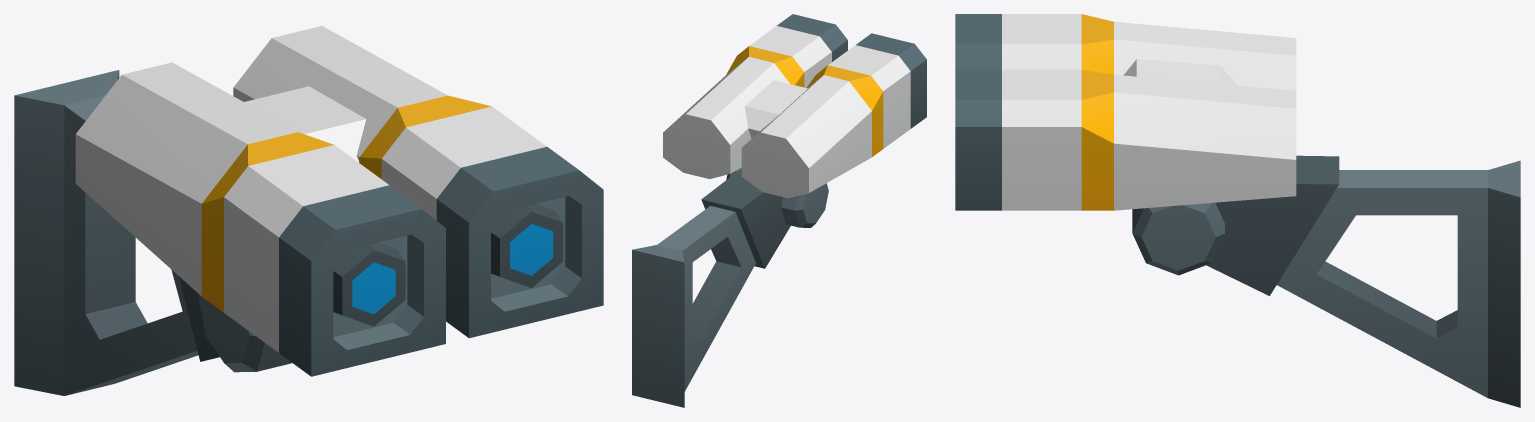
Rendered from Security_cam_010.glb.
3 renders of one model, left to right at view 1: azimuth 30°, elevation 25°; view 2: azimuth 150°, elevation 25°; view 3: azimuth 270°, elevation 25°, orthographic. The views are drawn at different scales.
Parts seen in each view (by area): view 1: Cam_010, Security_cam_010; view 2: Cam_010, Security_cam_010; view 3: Cam_010, Security_cam_010.
Part boxes in pixels (x1=…): Cam_010: x1=75, y1=26, x2=603, y2=376; Security_cam_010: x1=14, y1=70, x2=291, y2=395; Cam_010: x1=663, y1=14, x2=926, y2=198; Security_cam_010: x1=632, y1=167, x2=828, y2=407; Cam_010: x1=955, y1=14, x2=1296, y2=210; Security_cam_010: x1=1132, y1=155, x2=1520, y2=407.
Bounding box in the file's own units: 0.2822 × 0.4235 × 0.6531.
Materials: 2 (2 with a texture image).
